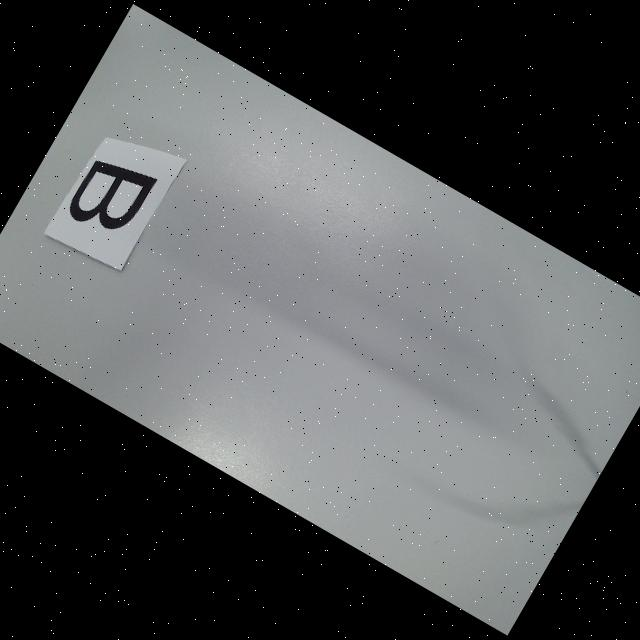FAKE: (62, 148, 158, 247)
